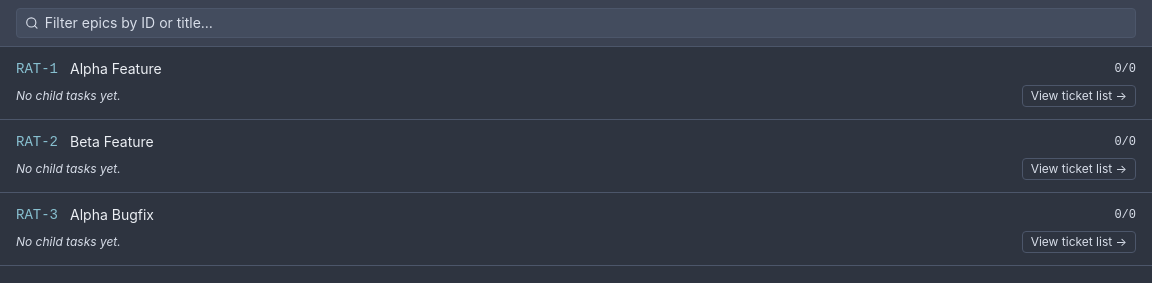
EpicsTab — filter bar › filters by title substring (case-insensitive)
Step 1. Type "alpha" into the field labelled "Filter epics by ID or title…" → (587, 23), box [39, 9, 1135, 37]
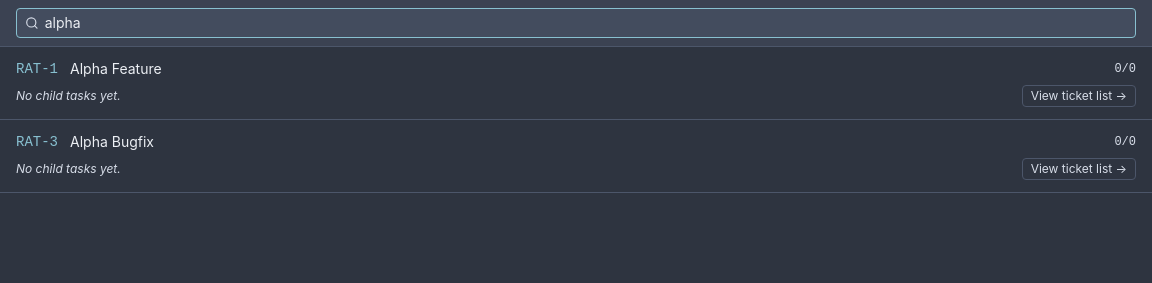
Check: the text "Alpha Feature" is shown, box [70, 60, 162, 77]
Check: the button "Beta Feature" is gone
